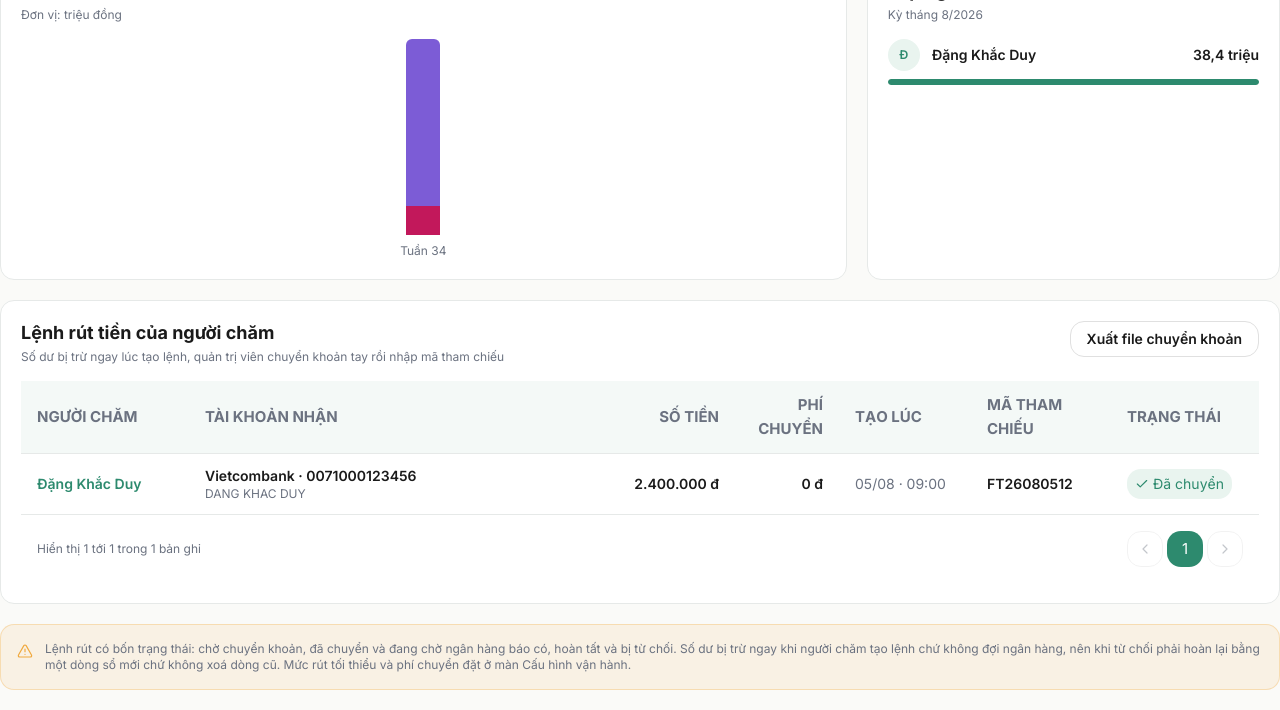
Scenario: Doanh thu và lệnh rút › lệnh đã chuyển chỉ còn lối đánh dấu xong, không lùi về từ chối
The image size is (1280, 710).
(page scrolled)
Step 1. Click the text "DANG KHAC DUY" → {"x": 255, "y": 494}, box left=205, top=486, right=306, bottom=501
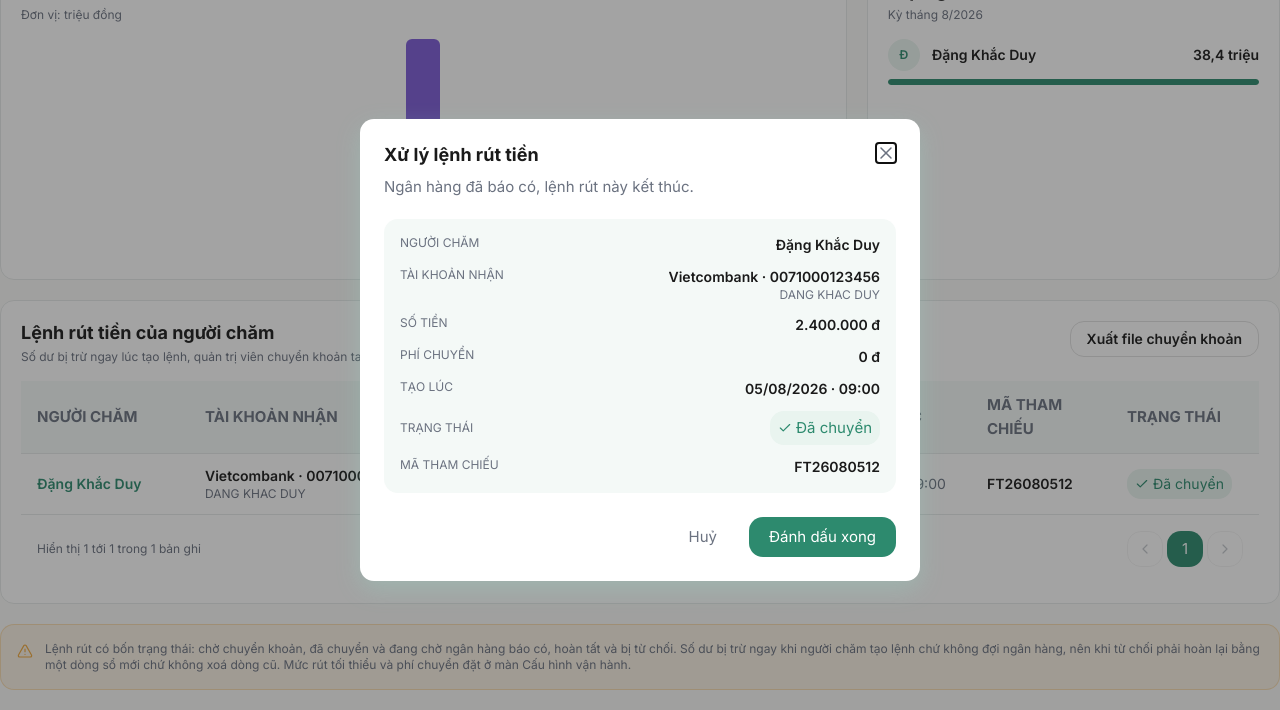
Check: the button "Đánh dấu xong" is shown, box left=749, top=517, right=896, bottom=557
